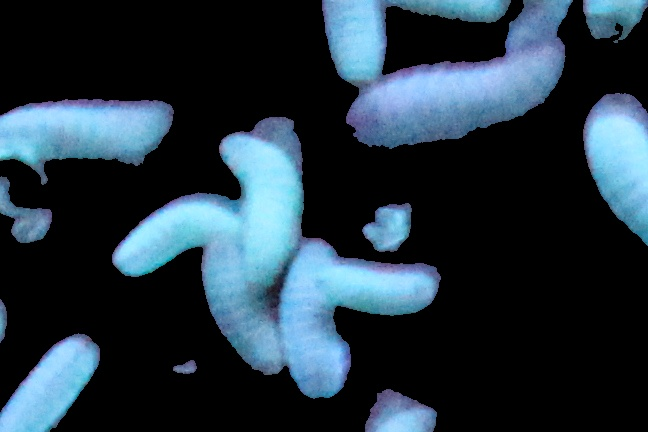larvae: (350, 44, 562, 151), (219, 132, 302, 283), (202, 241, 285, 378), (1, 99, 175, 164), (280, 240, 353, 394), (584, 94, 648, 258), (1, 334, 99, 432), (113, 202, 239, 276), (318, 259, 440, 314), (319, 1, 391, 85), (377, 1, 509, 24)
